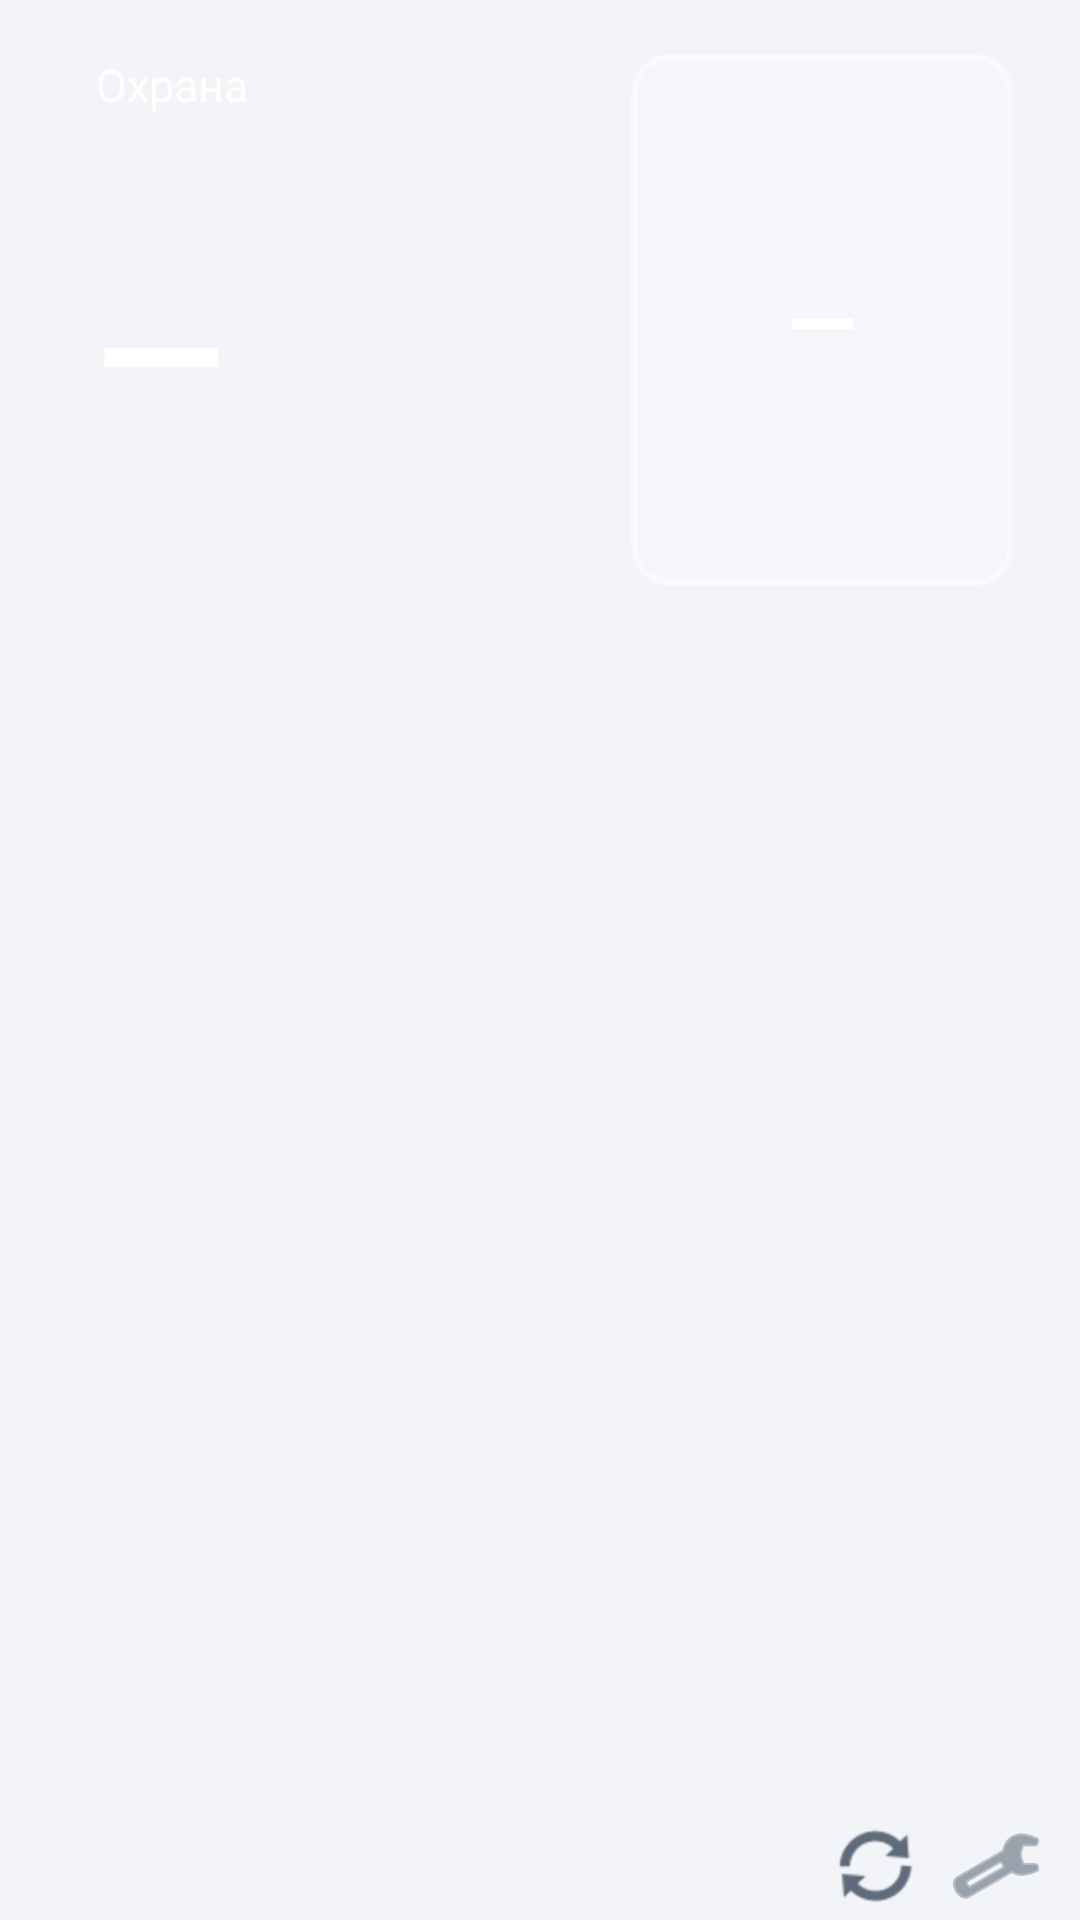

Where icons sit on this 1080w x 1920h app screen, as bbox=[x1, y1, x2, y2]:
Настройки: bbox=[953, 1833, 1039, 1899]
Обновить: bbox=[839, 1830, 912, 1902]
